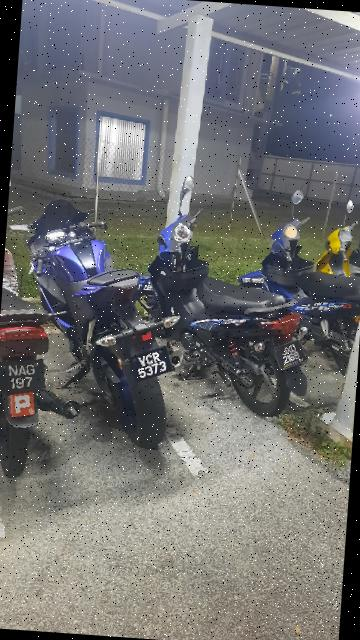License_Plate: (1, 355, 62, 404), (120, 334, 174, 386), (277, 331, 314, 375)
motorcycle: (1, 192, 196, 448), (134, 178, 314, 422), (236, 178, 360, 369)
